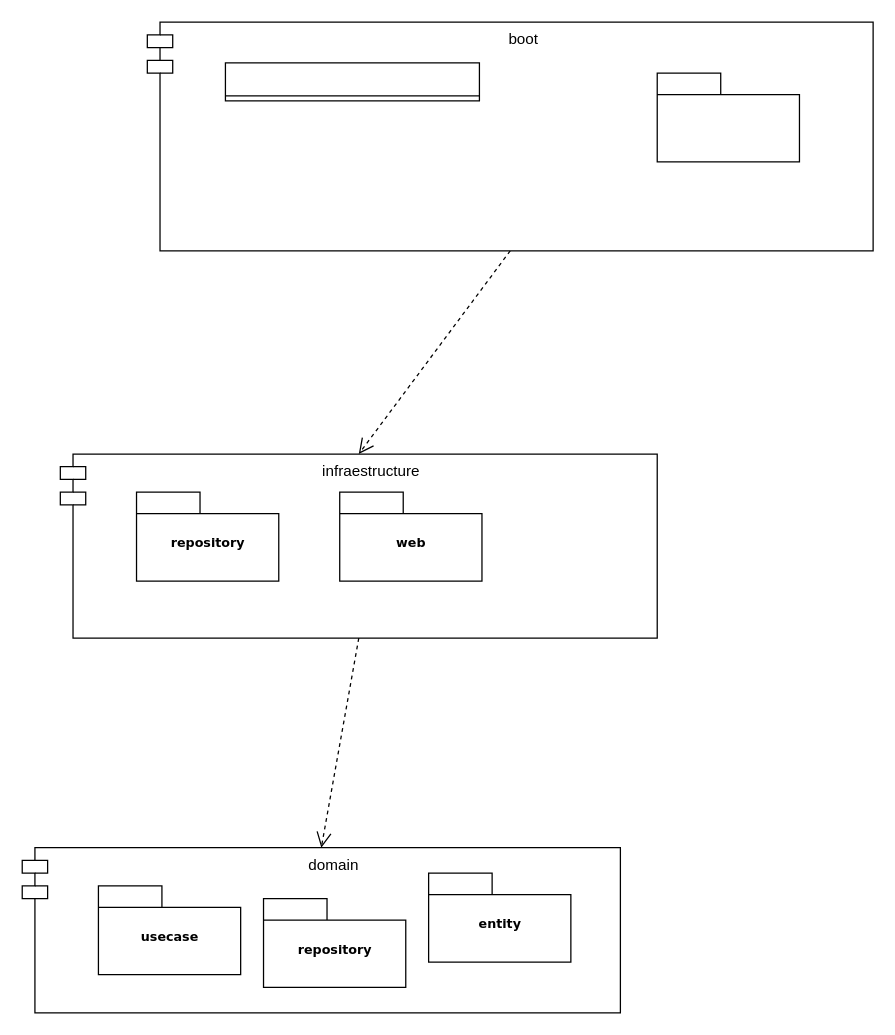
The diagram is 895 pixels wide and 1035 high, and some of its shapes have lost their labels. The shapes that lost their labels are listed below. From the top down, each one's centre as x and y in pixels, then its label:
At (x=351, y=81): "HelloSpringbootApplication".
At (x=727, y=117): "config".
